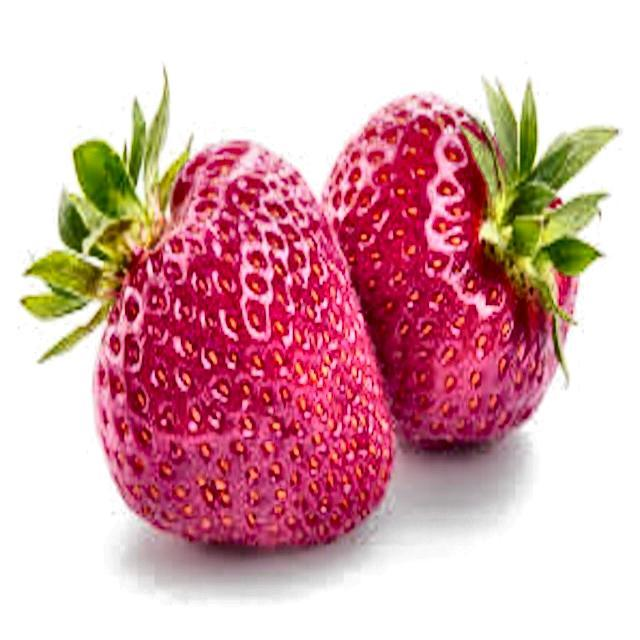strawberry: (24, 76, 394, 546), (324, 86, 616, 449)
